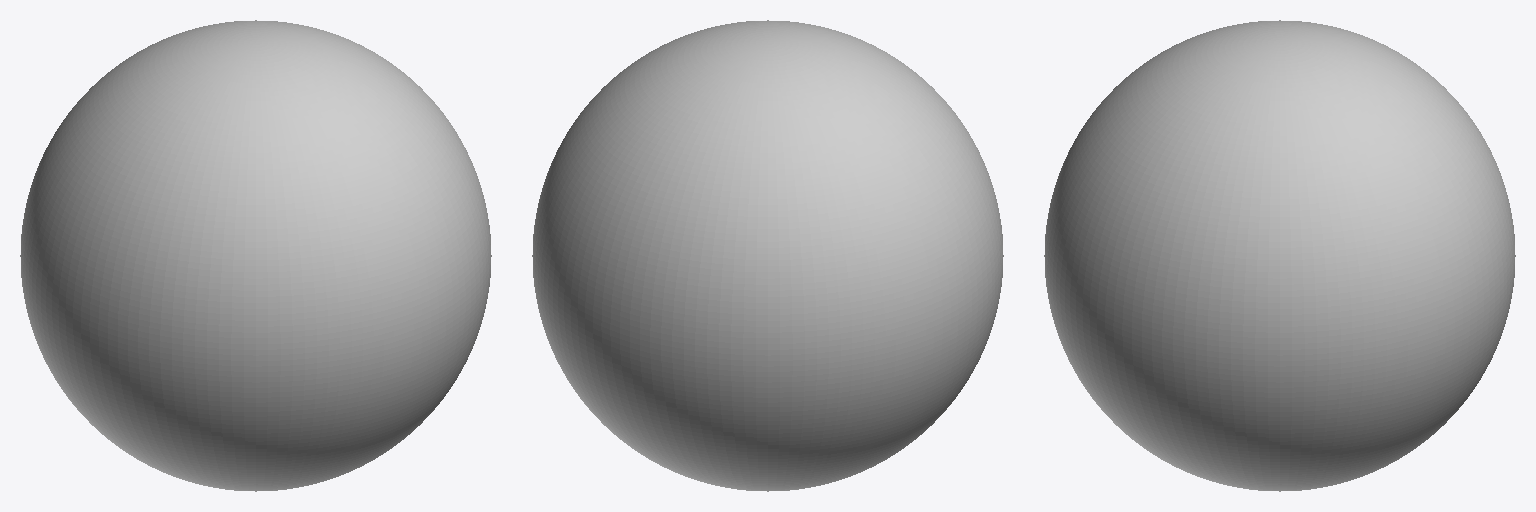
Rendered from ball2.obj.
3 views of the same model, side by side, from view 1: azimuth 30°, elevation 25°; view 2: azimuth 150°, elevation 25°; view 3: azimuth 270°, elevation 25° (orthographic).
Parts seen in each view (by area): view 1: Sphere; view 2: Sphere; view 3: Sphere.
Boxes of the visible parts, <box> form: Sphere: <box>20,20,491,491</box>; Sphere: <box>532,20,1003,491</box>; Sphere: <box>1044,20,1515,491</box>.
Bounding box in the file's own units: 4 × 4 × 4.